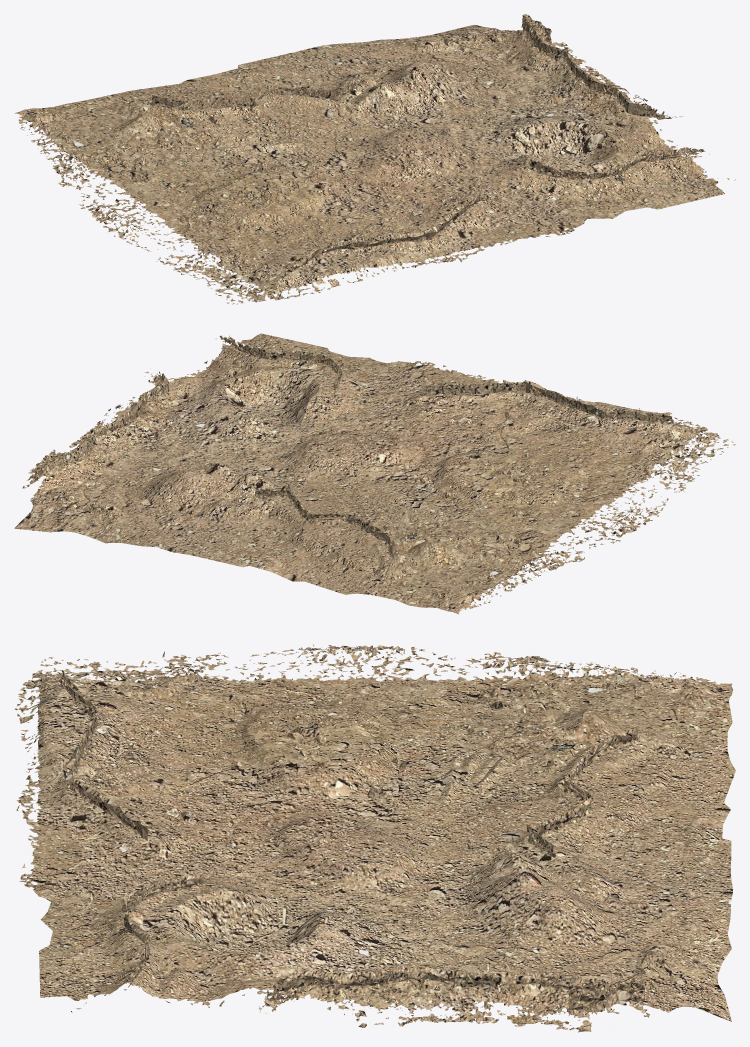
File: ERC_new.obj
3 views of the same model, one above another, from view 1: azimuth 30°, elevation 25°; view 2: azimuth 150°, elevation 25°; view 3: azimuth 270°, elevation 25° (orthographic). The views are drawn at different scales.
Visible parts, largest first — view 1: ERC; view 2: ERC; view 3: ERC.
Boxes of the visible parts, x1,y1,x2,y2 form: ERC: (14, 14, 735, 304); ERC: (14, 333, 735, 614); ERC: (14, 644, 735, 1032).
Bounding box in the file's own units: 35.9 × 2.89 × 29.79.
1 material, 1 textured.
